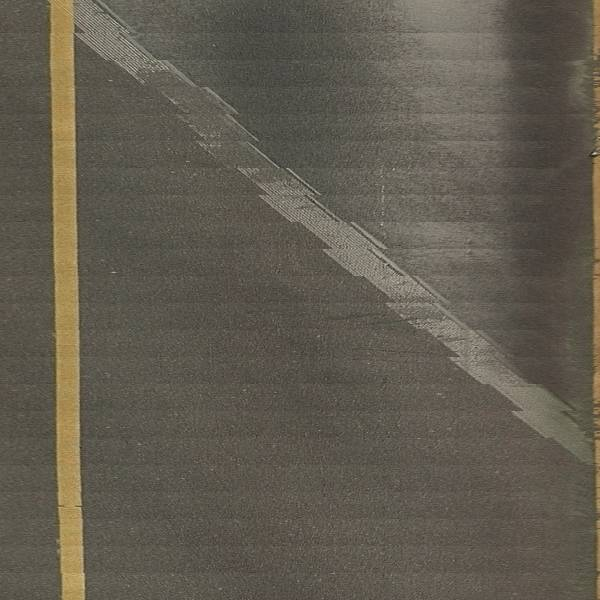road_damage: (125, 51, 566, 414)
